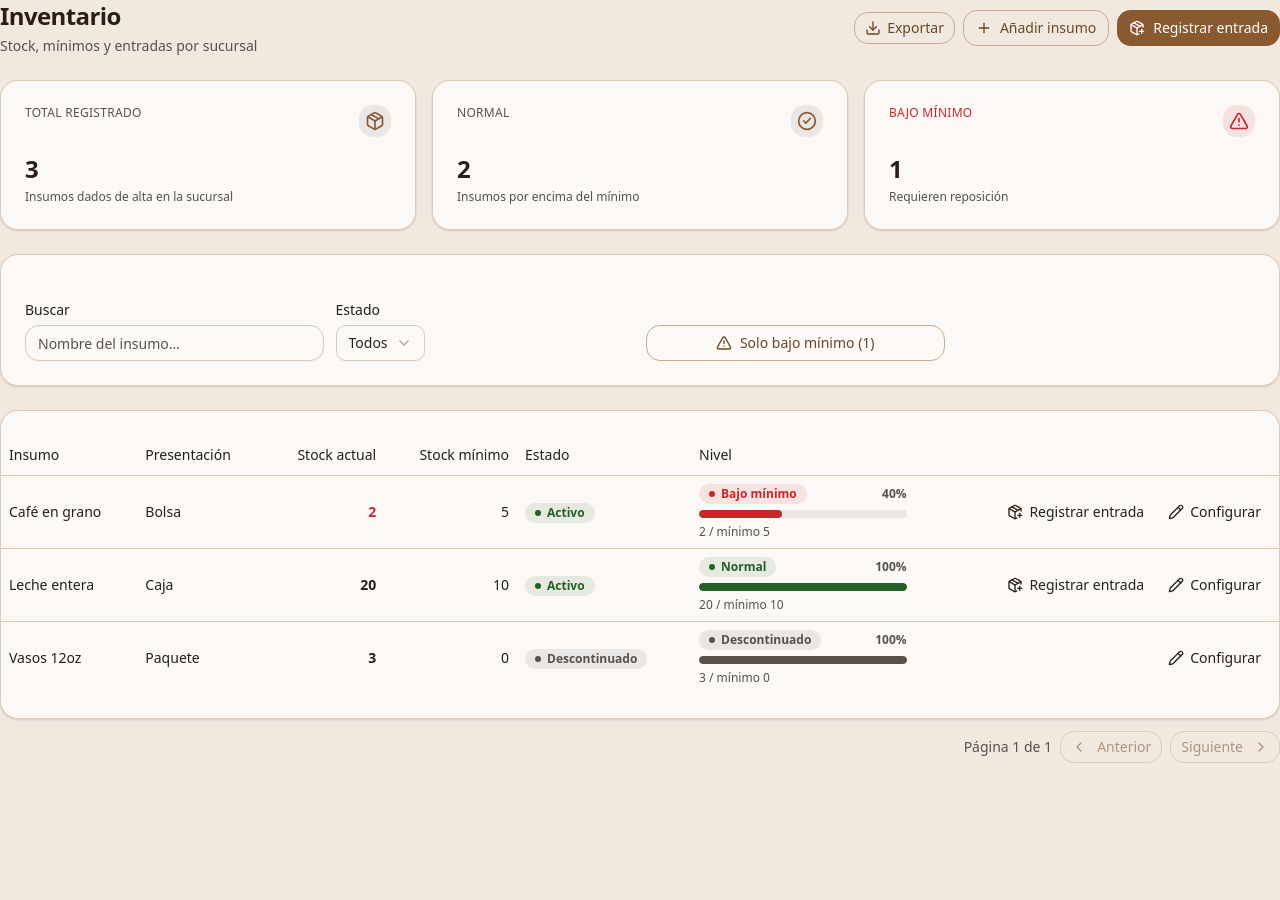
entrada de stock y coherencia de estados › una entrada que deja el stock en el mínimo lo mantiene como bajo
Click the button "Registrar entrada" in the row of "Café en grano" at (1076, 512), box [997,496,1154,528]
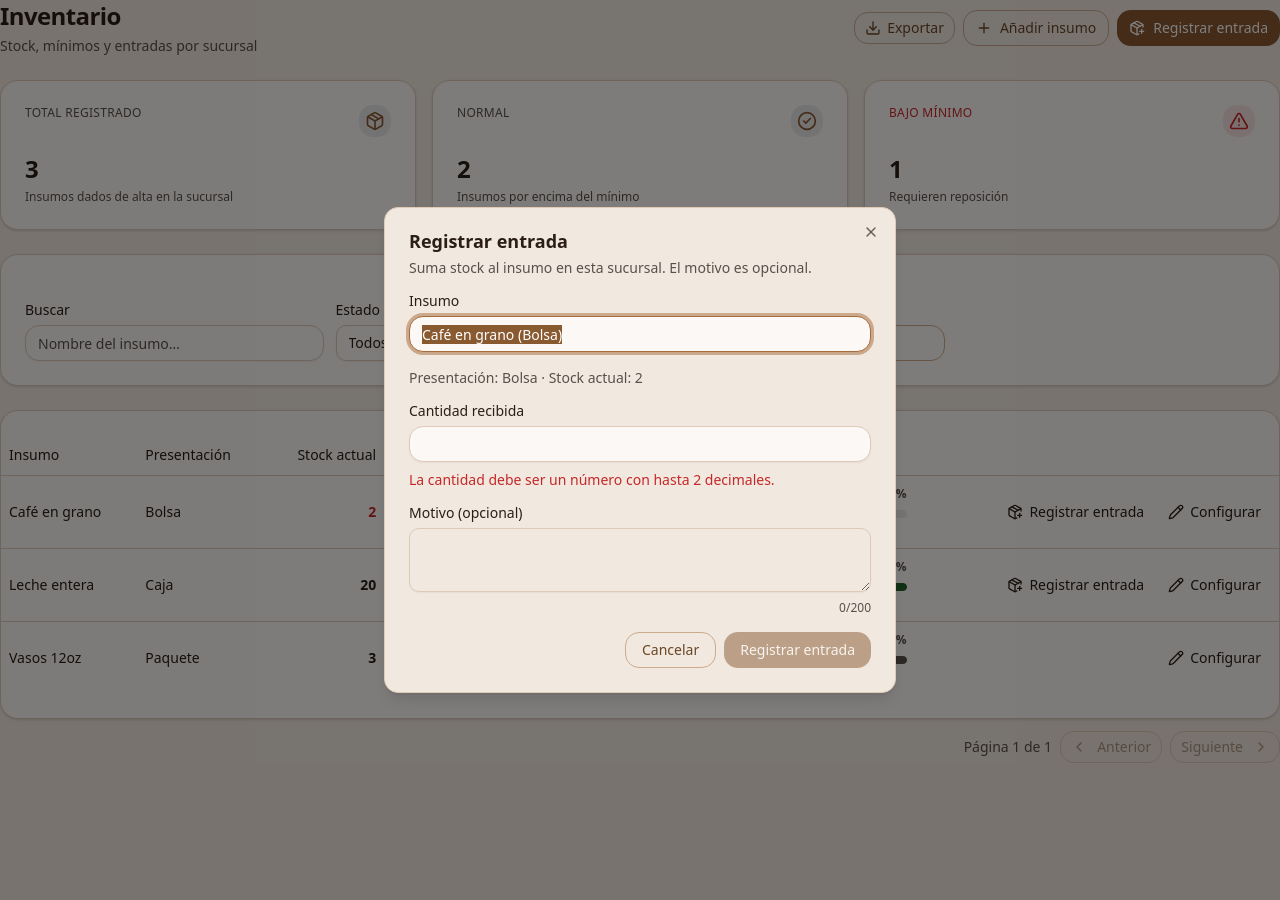
Type "3" into the field labelled "Cantidad recibida" at (640, 444), box [409,426,871,462]
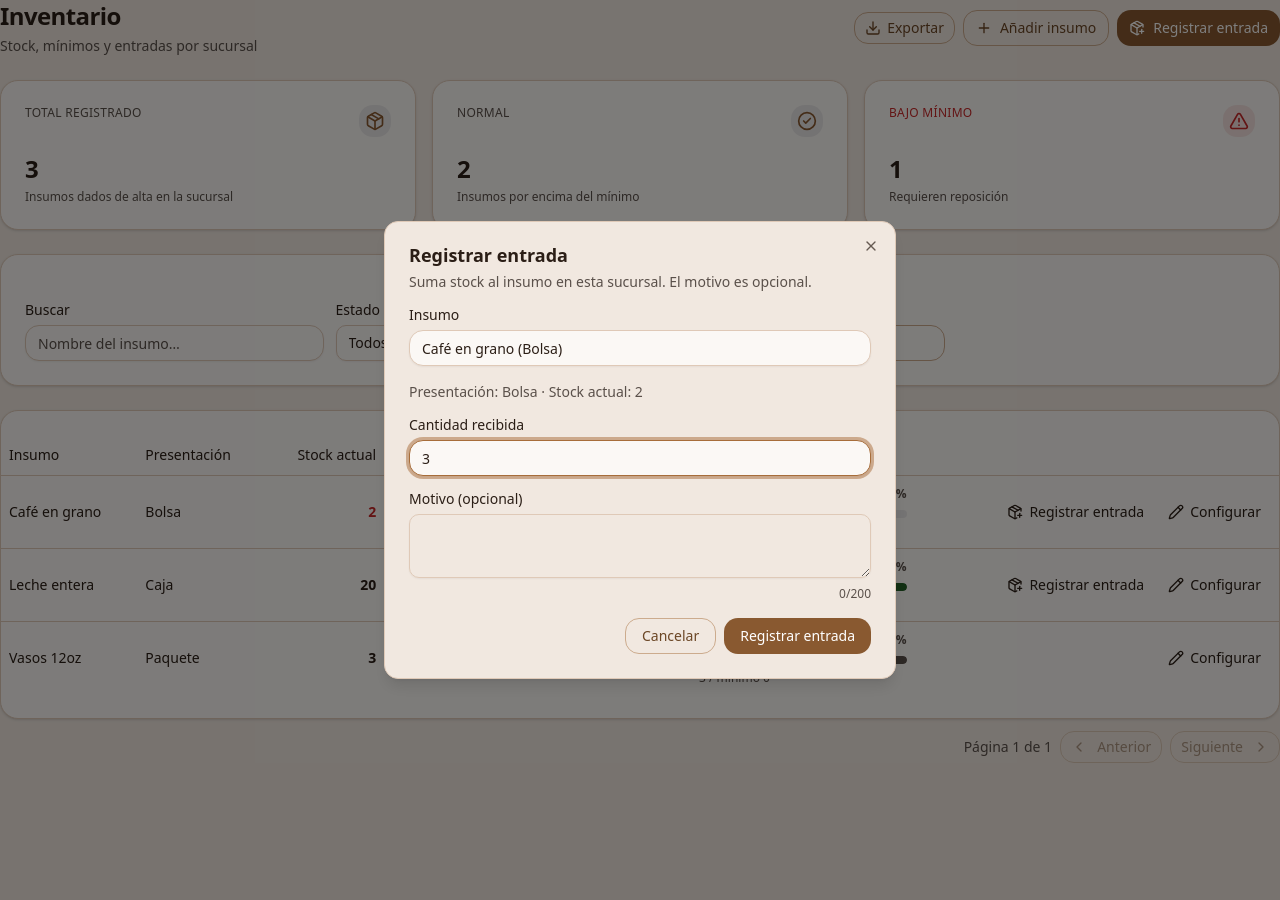
Click the button "Registrar entrada" at (798, 636), box [724,618,871,654]
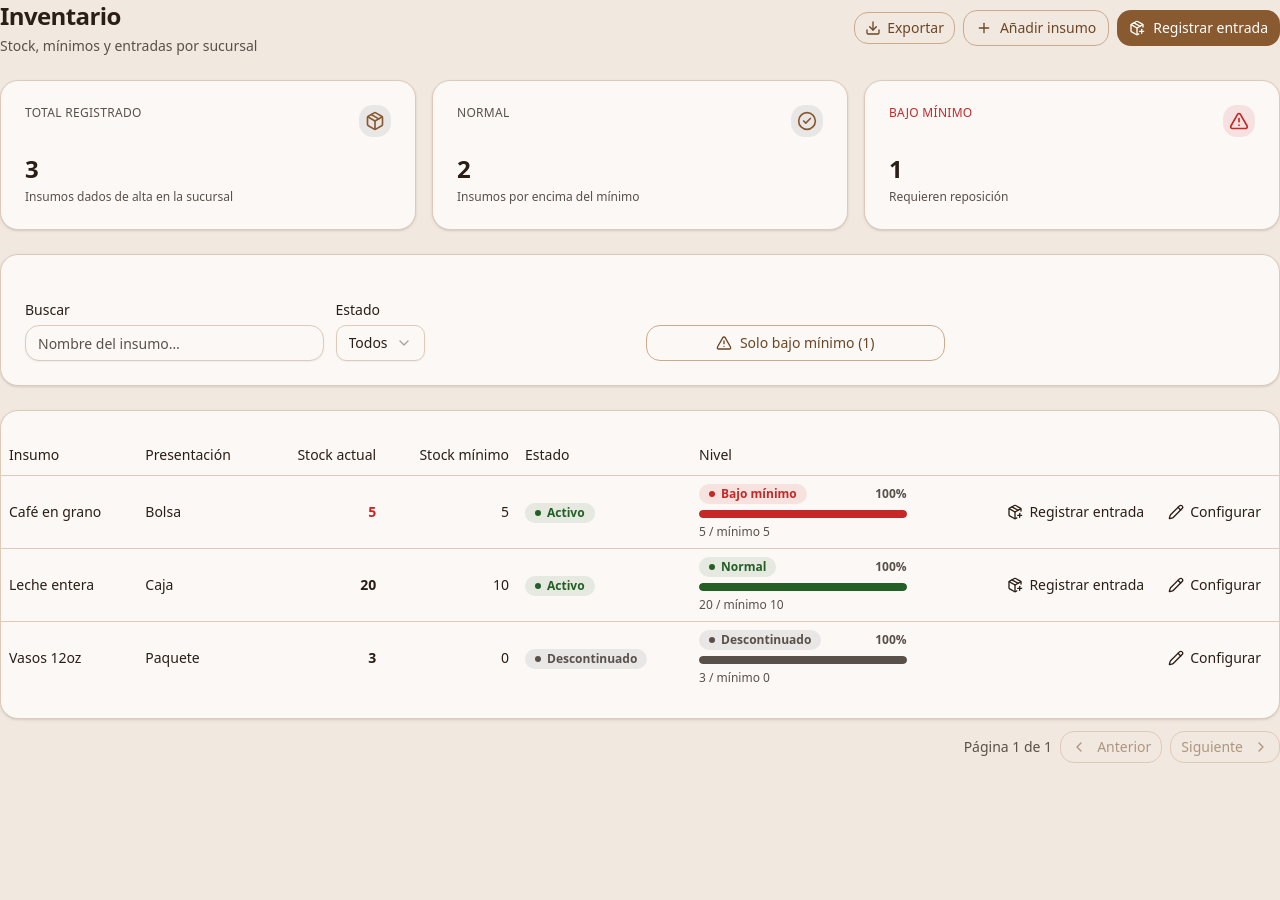
Expected: the text "Bajo mínimo" is shown, [699,484,807,504]
Expected: the dialog is gone
